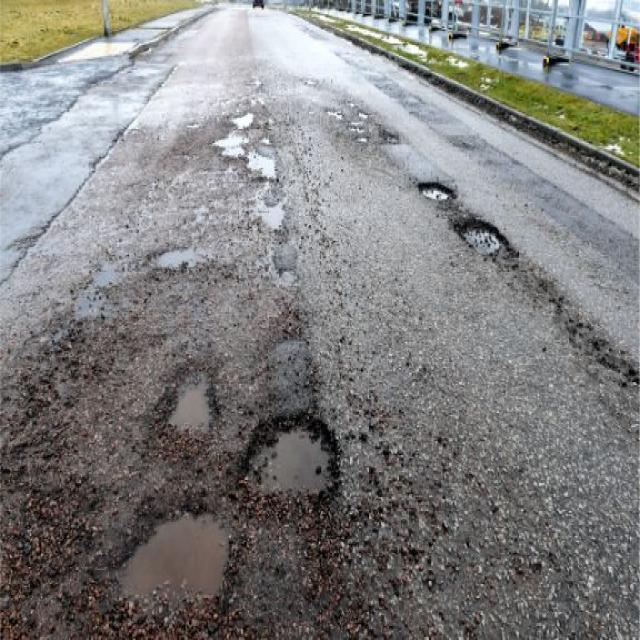Pothole: (109, 495, 240, 623), (237, 406, 348, 507), (163, 357, 226, 441), (453, 208, 518, 260), (417, 174, 461, 201)
